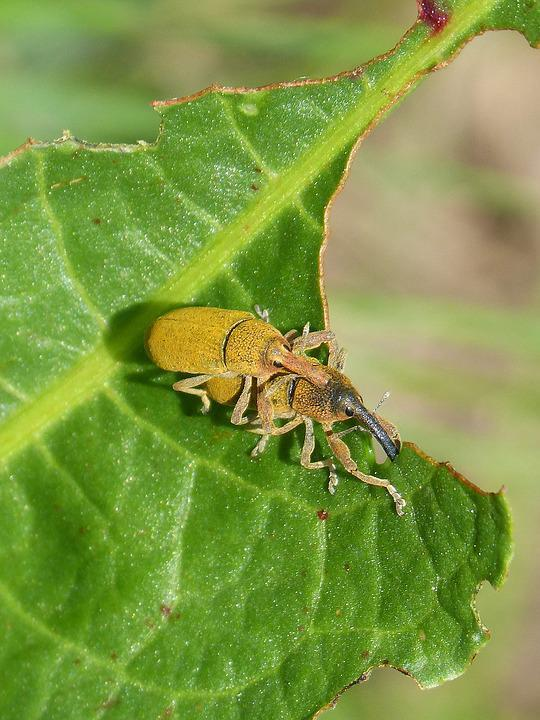weevils: (182, 344, 430, 544), (117, 271, 340, 449)
